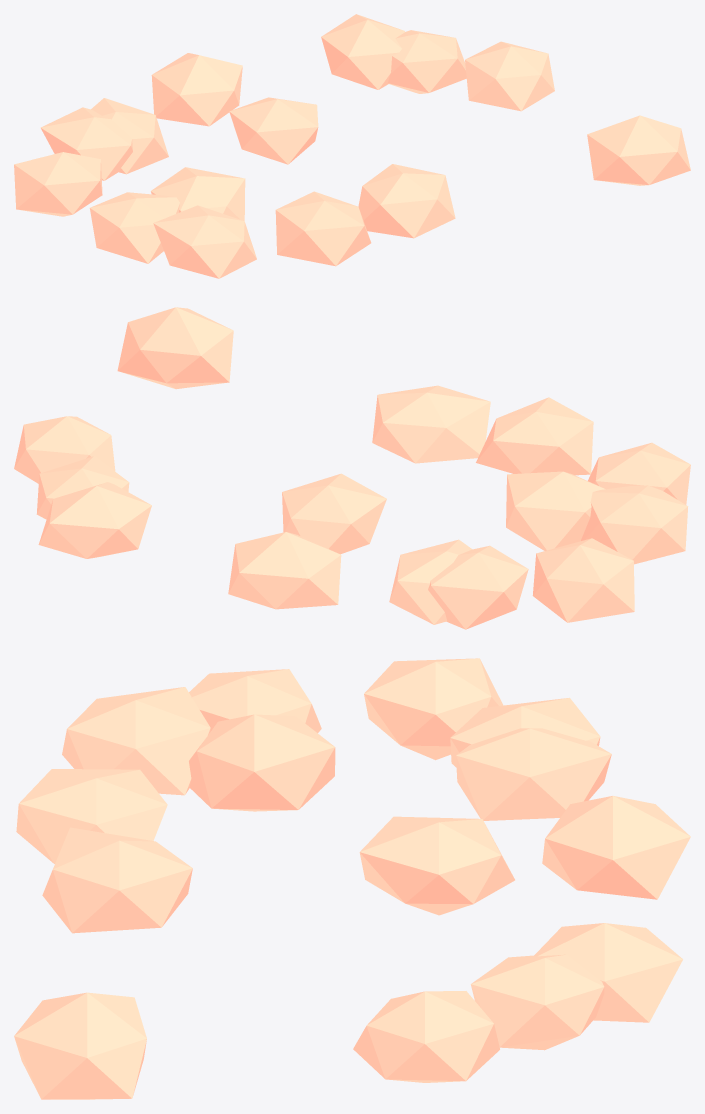
File: forge_coals.fbx
The picture shows the model from 3 angles, top to bottom: view 1: azimuth 30°, elevation 25°; view 2: azimuth 150°, elevation 25°; view 3: azimuth 270°, elevation 25°; orthographic projection. The views are drawn at different scales.
Parts seen in each view (by area): view 1: forge_coals; view 2: forge_coals; view 3: forge_coals.
Boxes of the visible parts, box(x1,y1,x2,y2) form: forge_coals: box(14, 14, 690, 278); forge_coals: box(14, 307, 690, 629); forge_coals: box(14, 658, 690, 1099).
Bounding box in the file's own units: 539 × 67.93 × 378.
